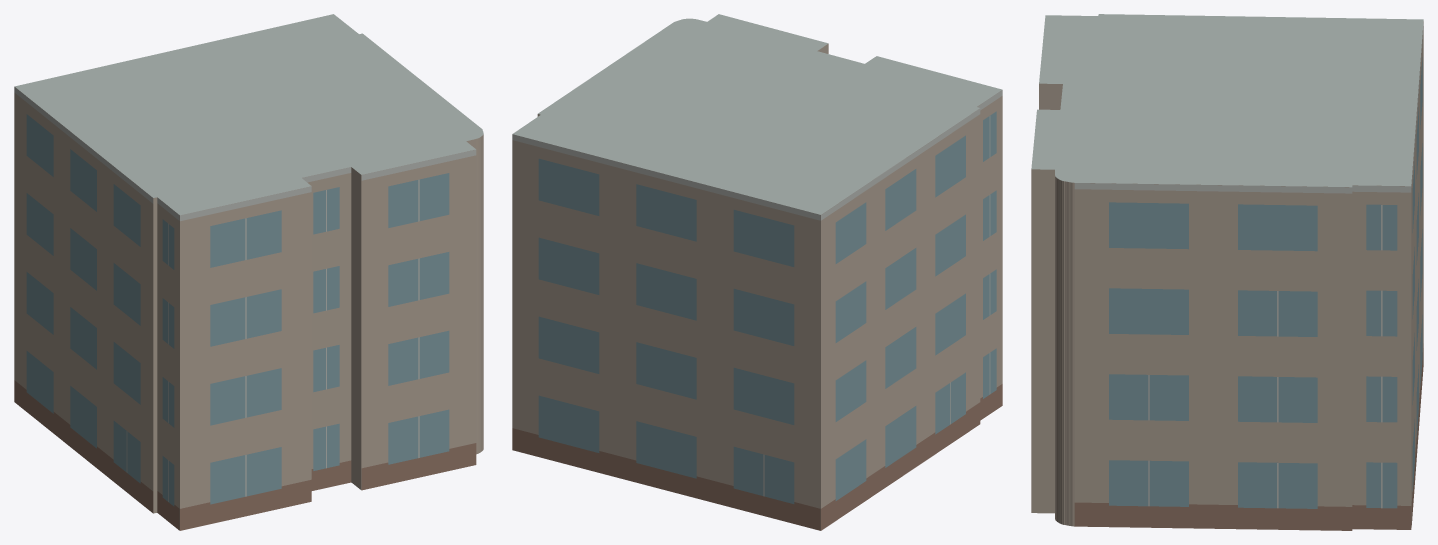
The model's file is survey-upis-32665311.glb.
3 views of the same model, side by side, from view 1: azimuth 30°, elevation 25°; view 2: azimuth 150°, elevation 25°; view 3: azimuth 270°, elevation 25° (orthographic). The views are drawn at different scales.
Visible parts, largest first — view 1: survey-upis-32665311.tmp; view 2: survey-upis-32665311.tmp; view 3: survey-upis-32665311.tmp.
Part boxes in pixels (x1,y1,x2,y2): survey-upis-32665311.tmp: [14, 14, 483, 530]; survey-upis-32665311.tmp: [512, 14, 1002, 530]; survey-upis-32665311.tmp: [1031, 14, 1423, 530].
Bounding box in the file's own units: 14.11 × 13.05 × 13.51.
